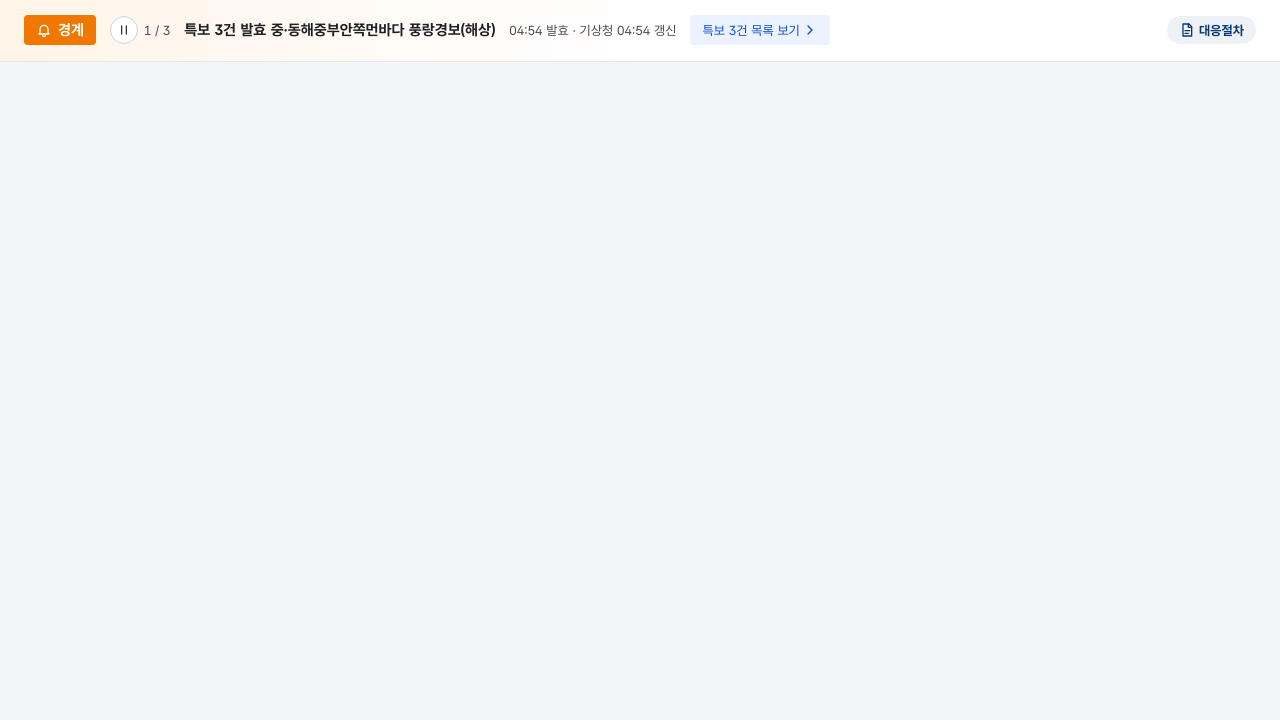
Test: 기상특보 상세 창 › 바다 구역 — 이름에 「(해상)」(개발 서버 WarningCodes.LabelOf)
Later steps or results of the test are not shown.
What coordinates should you click on to do the following:
click the button with class "wxmore"
I would click on:
 (760, 30)
Its box is left=690, top=15, right=830, bottom=45.
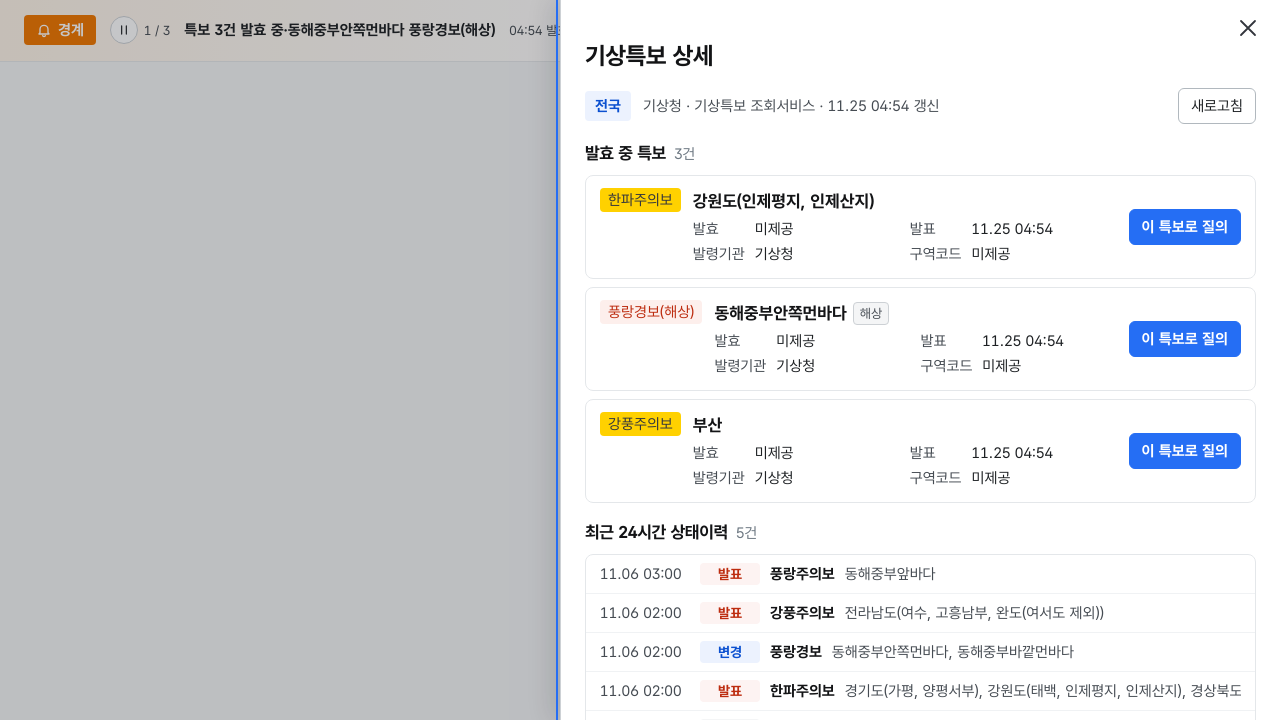
Check: the element with class "wx-item-area" reads "동해중부안쪽먼바다 해상", box left=714, top=302, right=889, bottom=324
Check: the text with class "wx-badge" reads "풍랑경보(해상)", box left=608, top=302, right=694, bottom=320
Check: the text with class "wx-tag" reads "해상", box left=860, top=306, right=882, bottom=320
